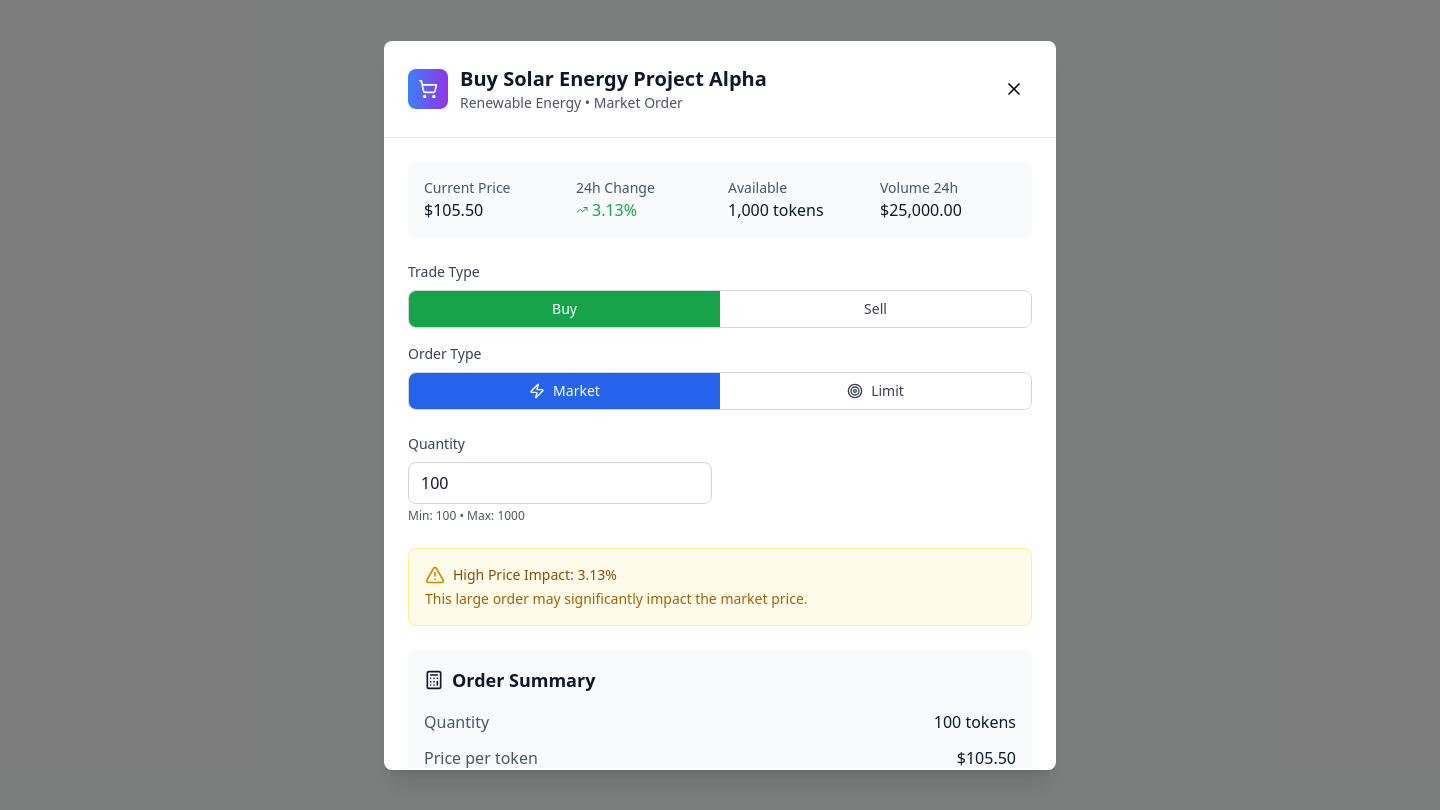
TradeModal › switches between market and limit orders
Click the button "Limit".
click(876, 390)  # box [720,372,1031,408]
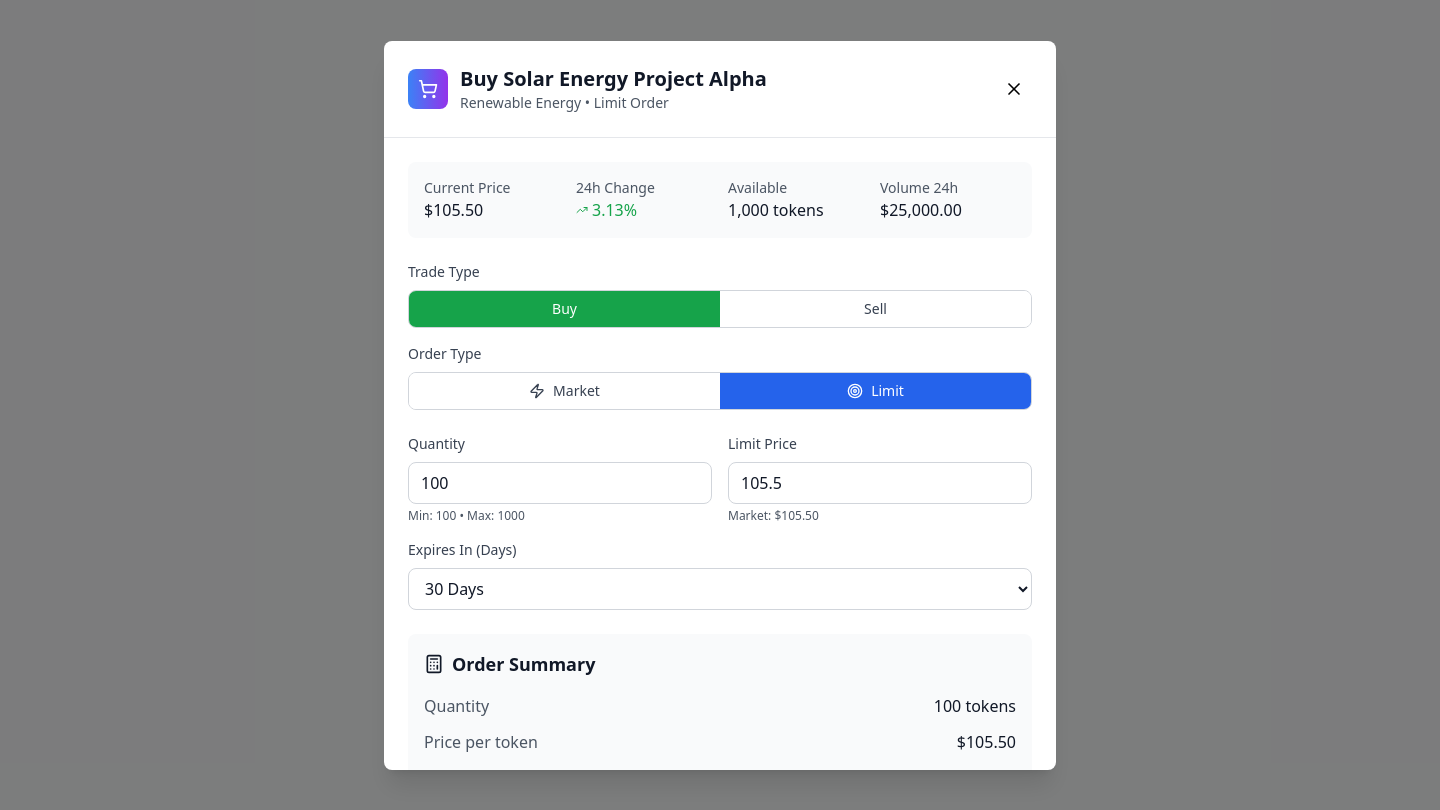
Result: the text "Renewable Energy • Limit Order" is shown at [460,92,669,112]
Result: the text "Limit Price" is shown at [728,434,797,452]
